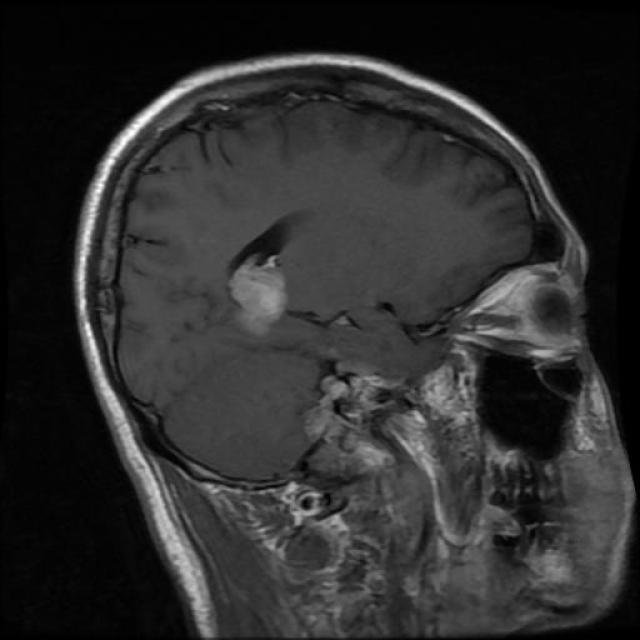meningioma: (230, 268, 286, 324)
